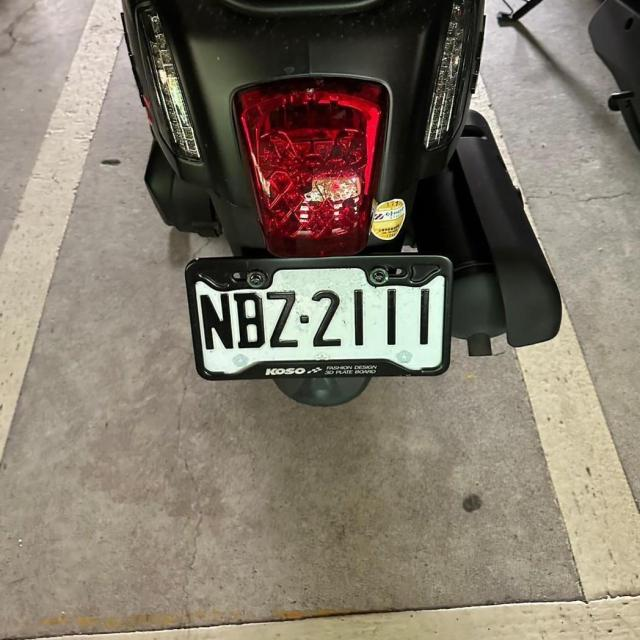W: (181, 253, 457, 388)
